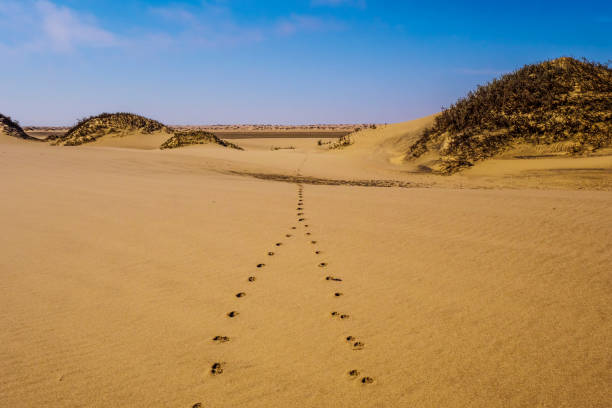human_footprint: (348, 370, 373, 383), (297, 187, 305, 221), (346, 336, 364, 349), (330, 311, 349, 319), (211, 362, 223, 374), (212, 335, 229, 342), (351, 341, 364, 349), (359, 376, 373, 383), (360, 376, 373, 383), (213, 336, 228, 342), (325, 276, 341, 281), (348, 369, 359, 376), (227, 311, 238, 317), (345, 335, 355, 341), (191, 402, 202, 407), (235, 292, 245, 297), (339, 314, 349, 319), (256, 263, 266, 268), (248, 276, 256, 282), (333, 292, 342, 296), (318, 262, 326, 266), (296, 207, 303, 211), (285, 234, 292, 238), (267, 251, 274, 255), (298, 218, 305, 222), (315, 250, 321, 254), (305, 232, 311, 236), (275, 242, 281, 246), (297, 202, 303, 206), (311, 240, 316, 244), (297, 212, 303, 215), (291, 226, 296, 229), (304, 224, 308, 227)
